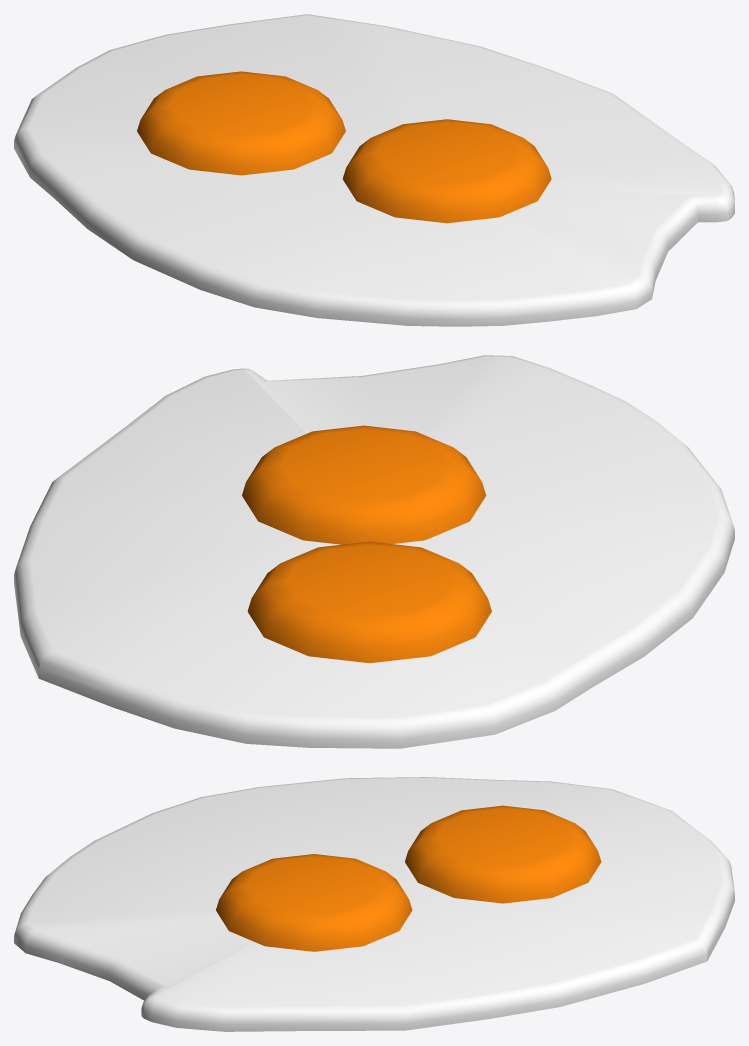
File: Egg_1.fbx
3 renders of one model, top to bottom at view 1: azimuth 30°, elevation 25°; view 2: azimuth 150°, elevation 25°; view 3: azimuth 270°, elevation 25°, orthographic. The views are drawn at different scales.
Parts seen in each view (by area): view 1: Egg_1; view 2: Egg_1; view 3: Egg_1.
Part boxes in pixels (x1,y1,x2,y2): Egg_1: [14, 14, 734, 326]; Egg_1: [14, 355, 734, 748]; Egg_1: [14, 777, 734, 1031].
Bounding box in the file's own units: 0.1584 × 0.0137 × 0.2012.
